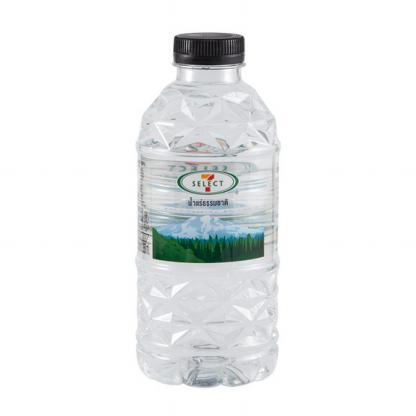plastic_bottle: (128, 24, 285, 391)
